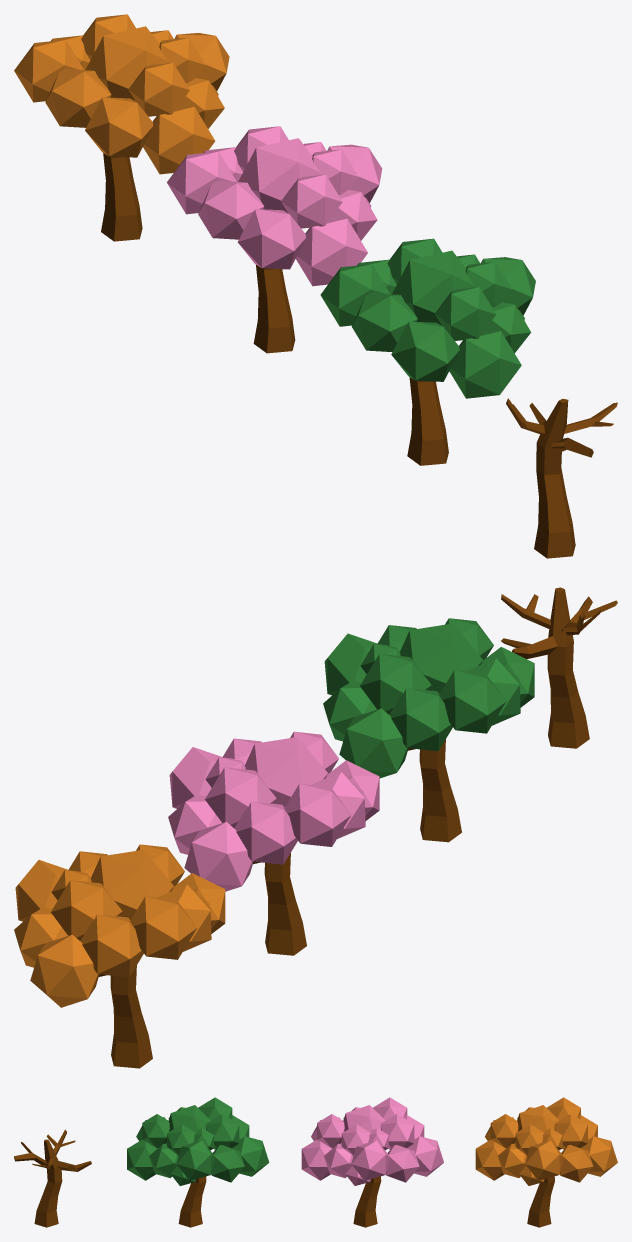
The model's file is trees.fbx.
The picture shows the model from 3 angles, top to bottom: view 1: azimuth 30°, elevation 25°; view 2: azimuth 150°, elevation 25°; view 3: azimuth 270°, elevation 25°; orthographic projection. The views are drawn at different scales.
Visible parts, largest first — view 1: SM_tree_summer_SH, SM_tree_spring_SH, SM_tree_autumn_SH, SM_tree_winter_SH; view 2: SM_tree_autumn_SH, SM_tree_summer_SH, SM_tree_spring_SH, SM_tree_winter_SH; view 3: SM_tree_spring_SH, SM_tree_summer_SH, SM_tree_autumn_SH, SM_tree_winter_SH.
Boxes of the visible parts, x1,y1,x2,y2 form: SM_tree_summer_SH: (320, 238, 535, 465); SM_tree_spring_SH: (167, 126, 382, 353); SM_tree_autumn_SH: (14, 14, 229, 241); SM_tree_winter_SH: (506, 398, 617, 558); SM_tree_autumn_SH: (14, 844, 225, 1068); SM_tree_summer_SH: (323, 618, 534, 842); SM_tree_spring_SH: (168, 731, 379, 955); SM_tree_winter_SH: (501, 587, 617, 748); SM_tree_spring_SH: (301, 1097, 443, 1227); SM_tree_summer_SH: (127, 1097, 269, 1227); SM_tree_autumn_SH: (475, 1097, 617, 1227); SM_tree_winter_SH: (14, 1129, 91, 1227).
Size of the model in its own units: 14.39 by 70.12 by 14.46.
